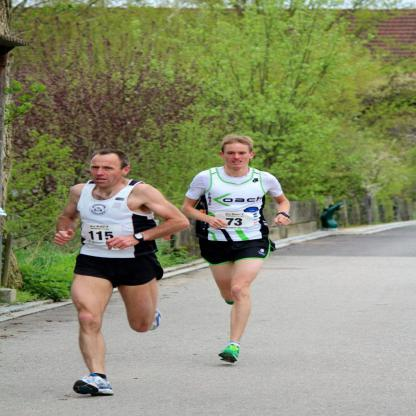face: (94, 155, 122, 187), (226, 144, 250, 169)
